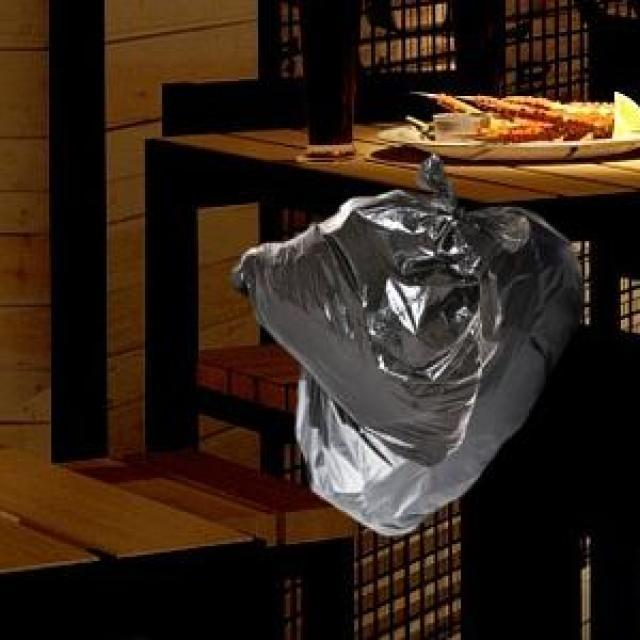Vinyl: (234, 170, 580, 534)
